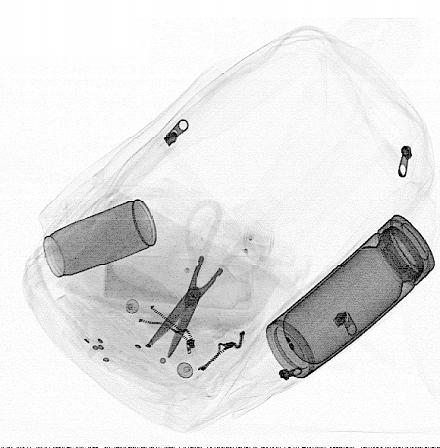Scissors: (146, 197, 268, 359)
